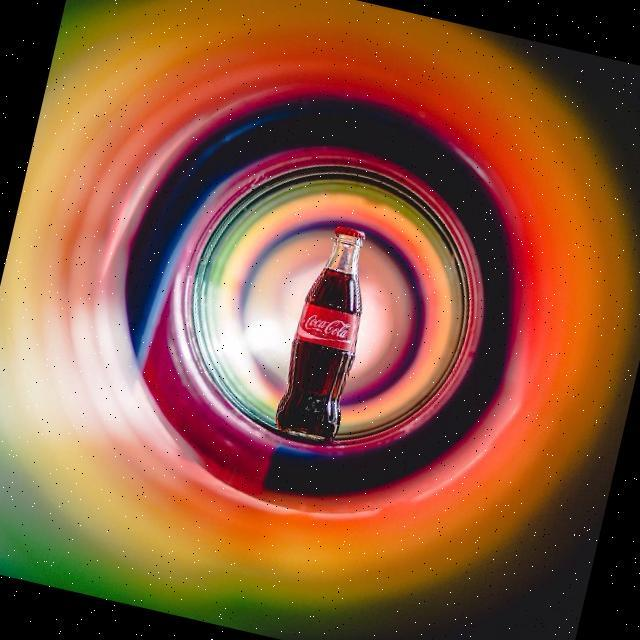coca-cola: (269, 218, 384, 448)
